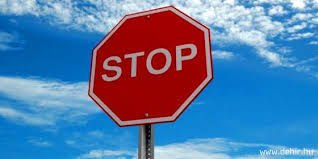stop: (88, 5, 213, 126)
